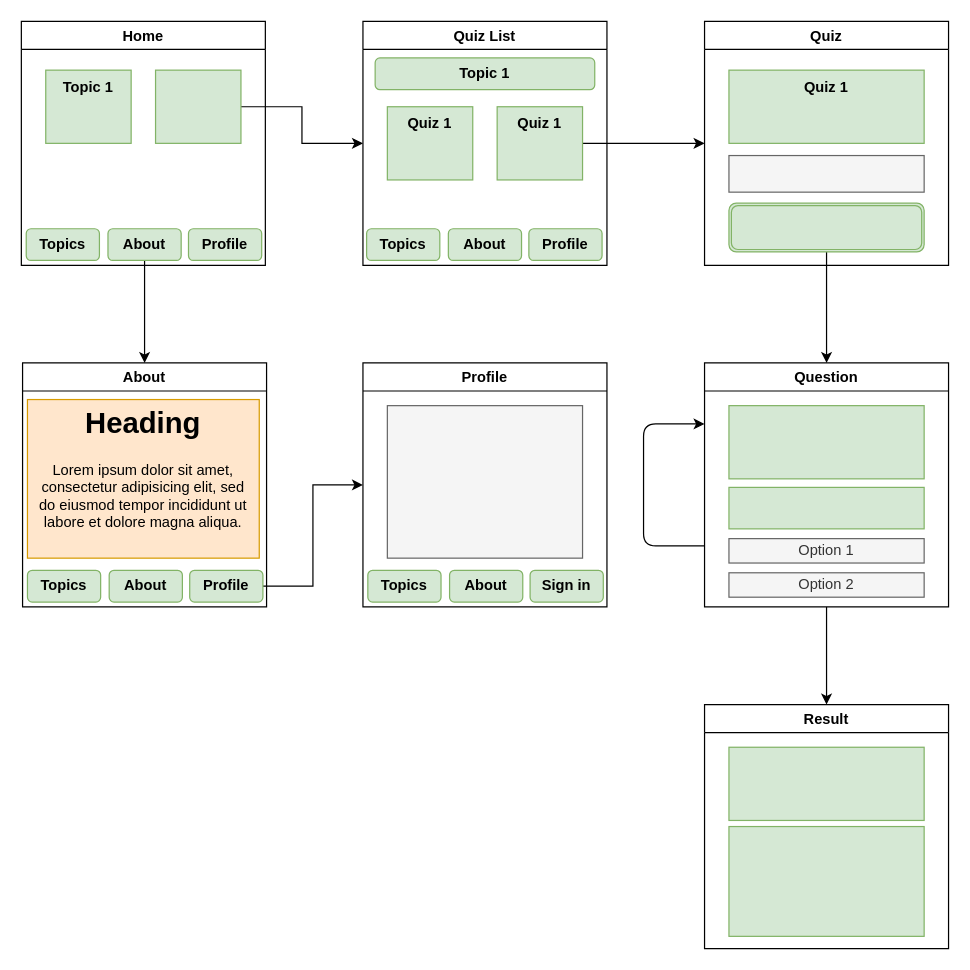
The diagram is 970 pixels wide and 970 high, and some of its shapes have lost their labels. Here are the shapes that lost their labels. From the top down, the centre of each, then its label:
At point 197,106: "Topic 2".
At point 826,173: "Description".
At point 826,227: "START".
At point 826,441: "Question 1 img/video [optional]".
At point 484,481: "Language Country City Age Weight Height ...".
At point 826,507: "Question 1".
At point 826,783: "Quiz Result img".
At point 826,880: "Conclusions points based".
